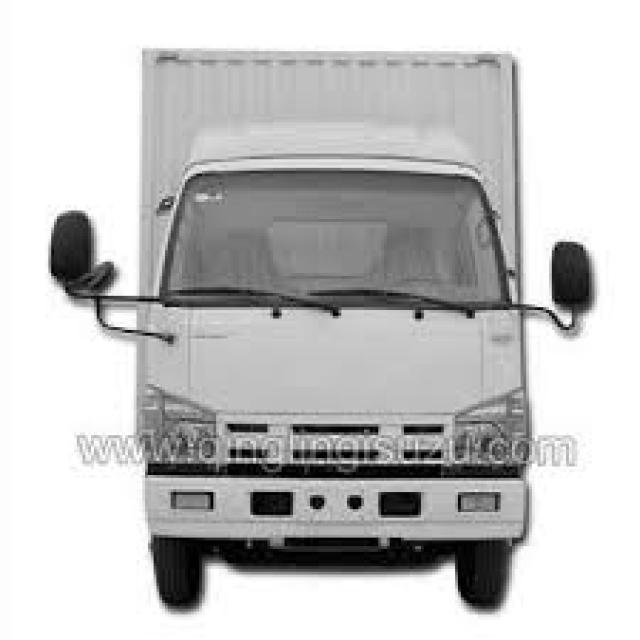truck: (39, 25, 618, 584)
